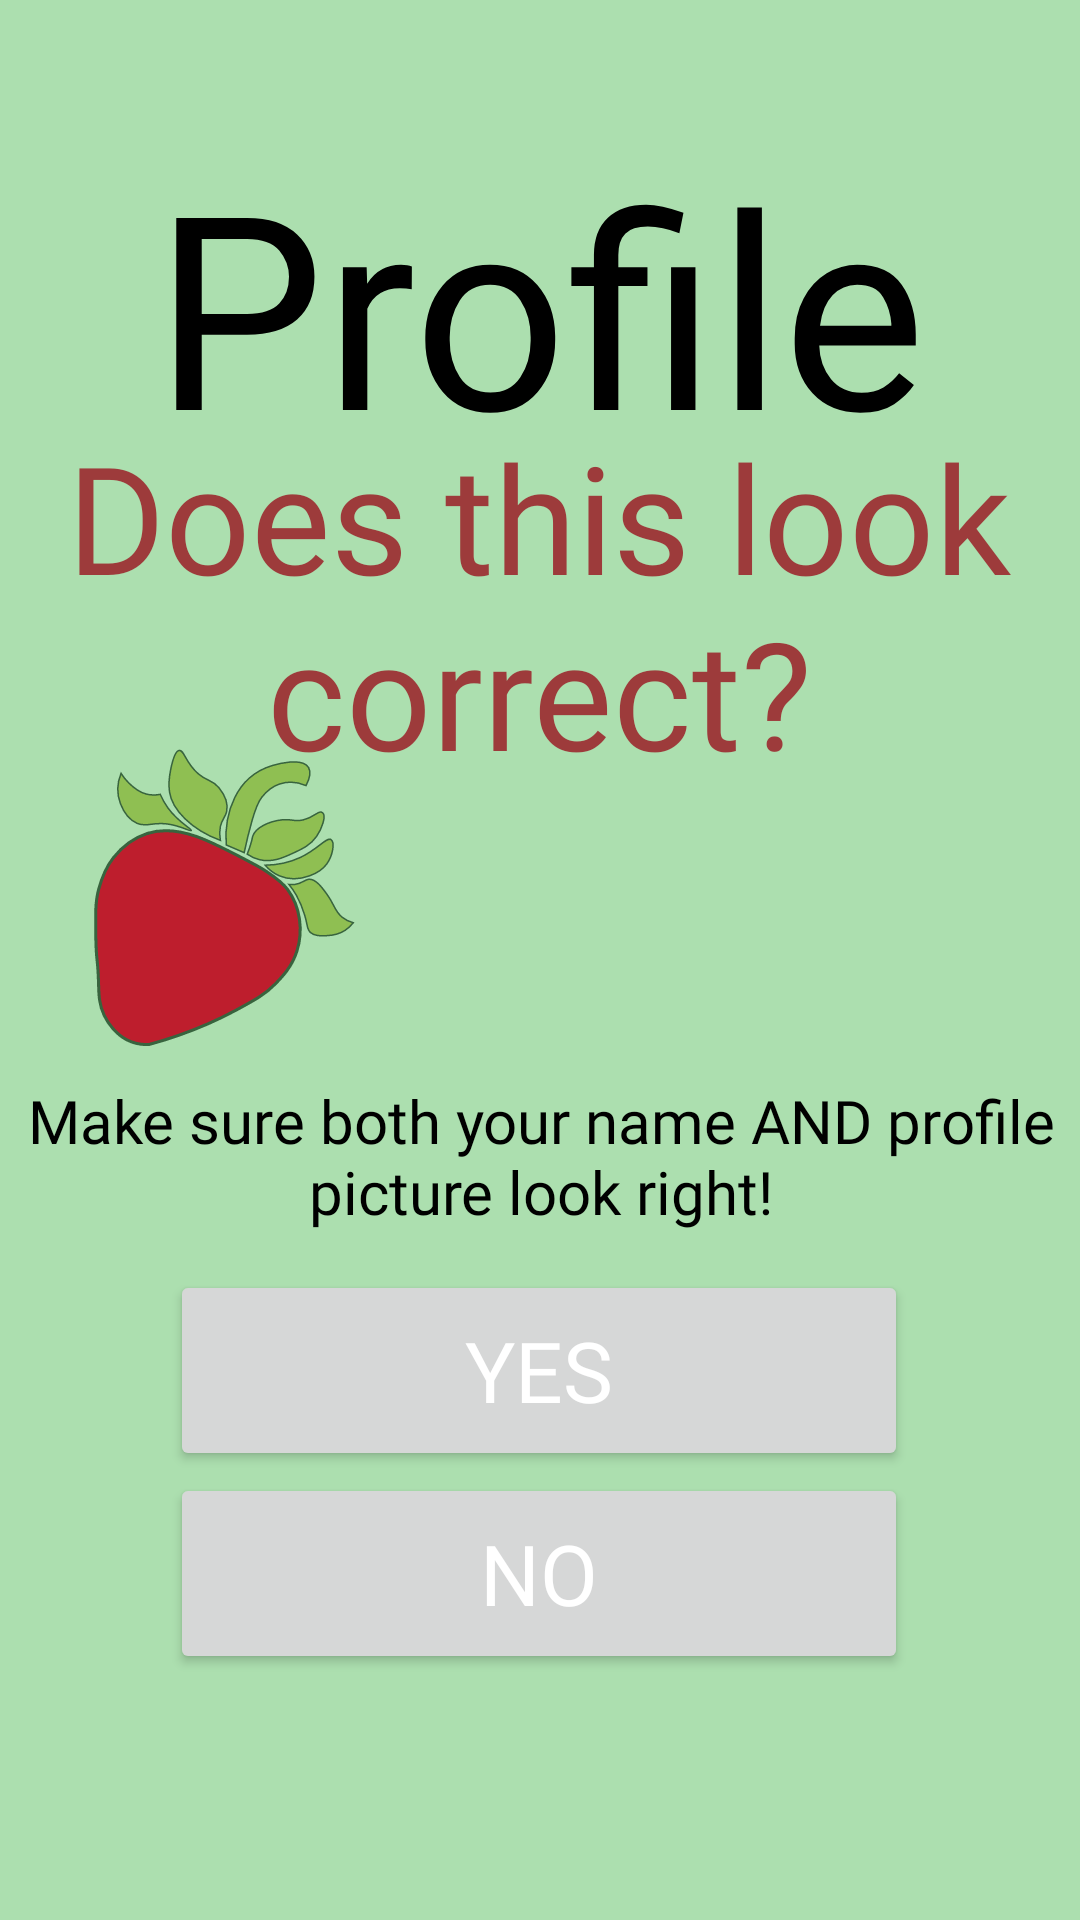

Icons on this 1080 x 1920 Android screen, each with its box as (x1=x1, y1=y1, x2=x2, y2=y2):
The user's chosen icon: (x1=94, y1=749, x2=354, y2=1046)
